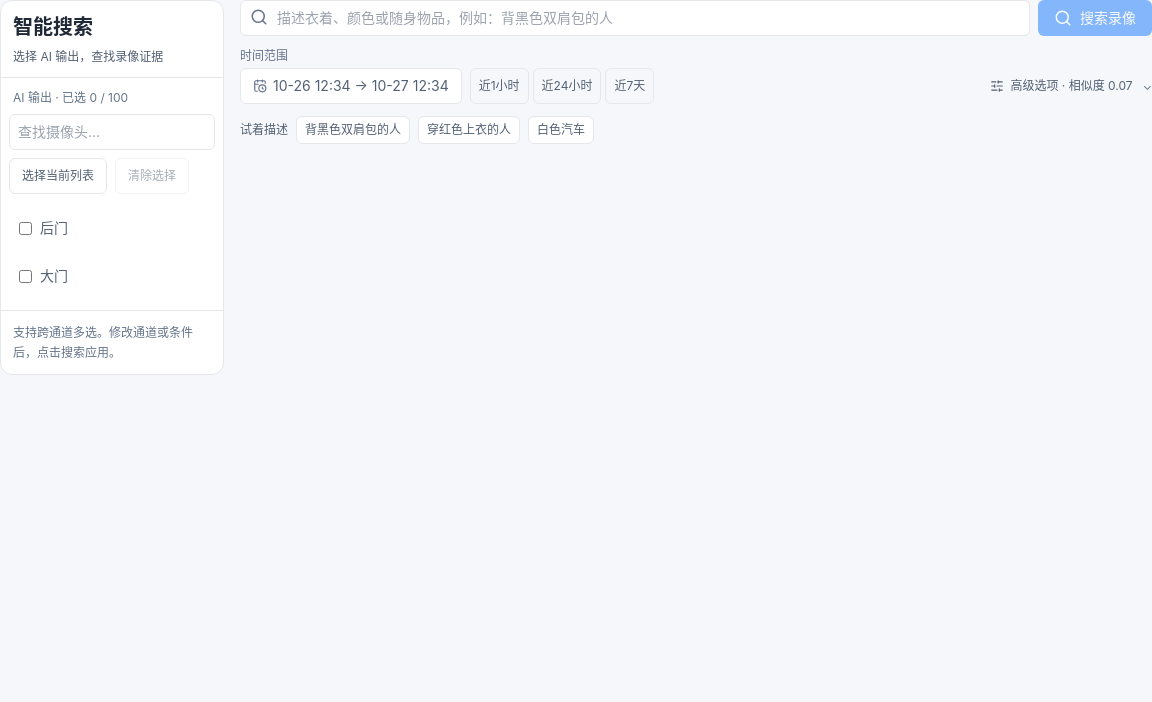
Test: 近7天 changes only the time draft until an explicit search, preserving previous evidence and coverage
Step 1. Click the checkbox labelled "后门" → (26, 228), box [19, 222, 32, 234]
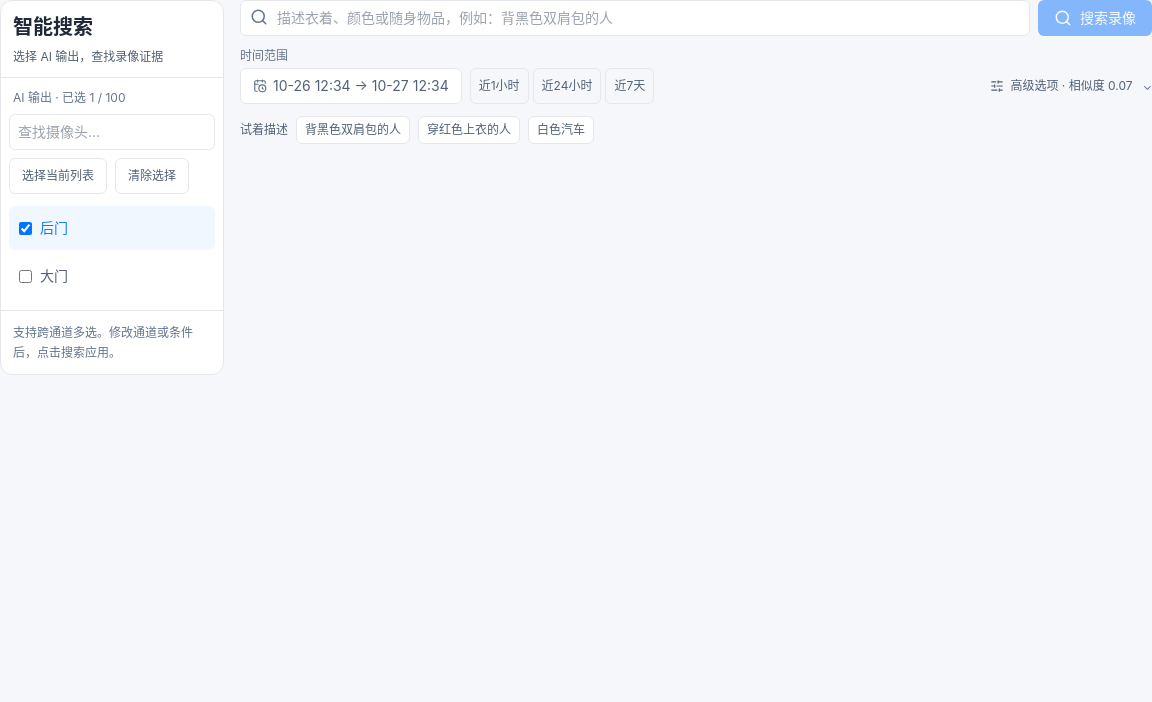
Step 2. Type "黑色背包" into the field named "想找什么？" → (635, 18), box [240, 0, 1030, 36]
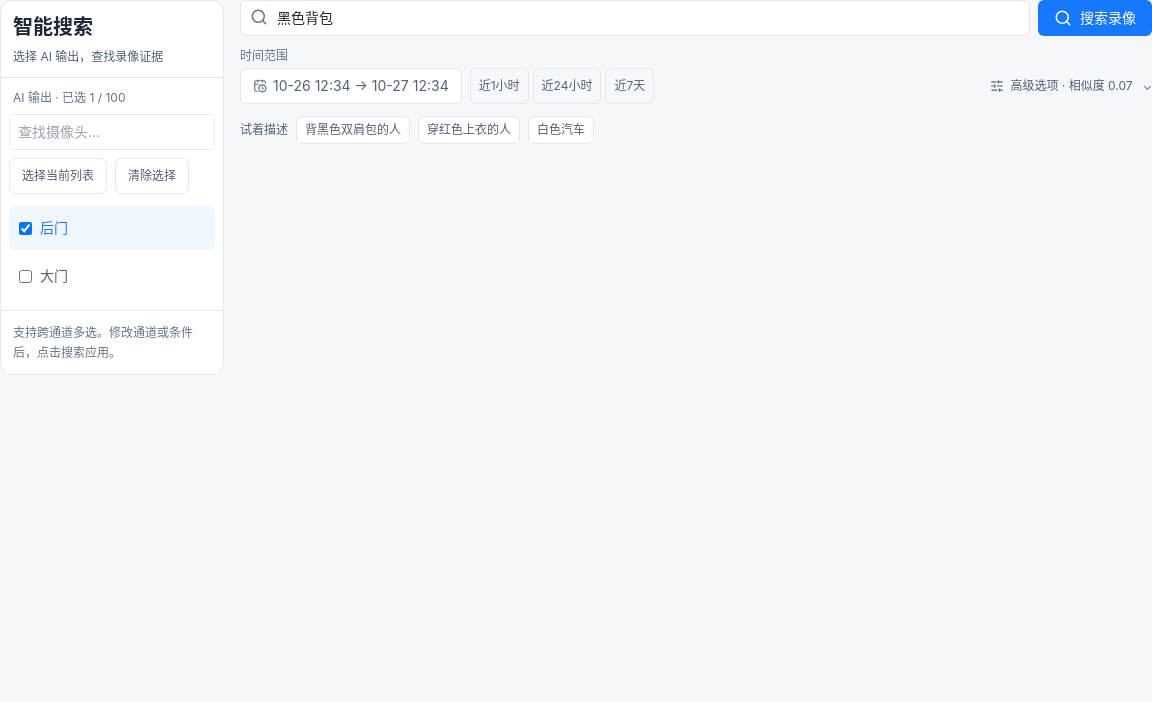
Step 3. Click the button "搜索录像" → (1095, 18), box [1038, 0, 1151, 36]
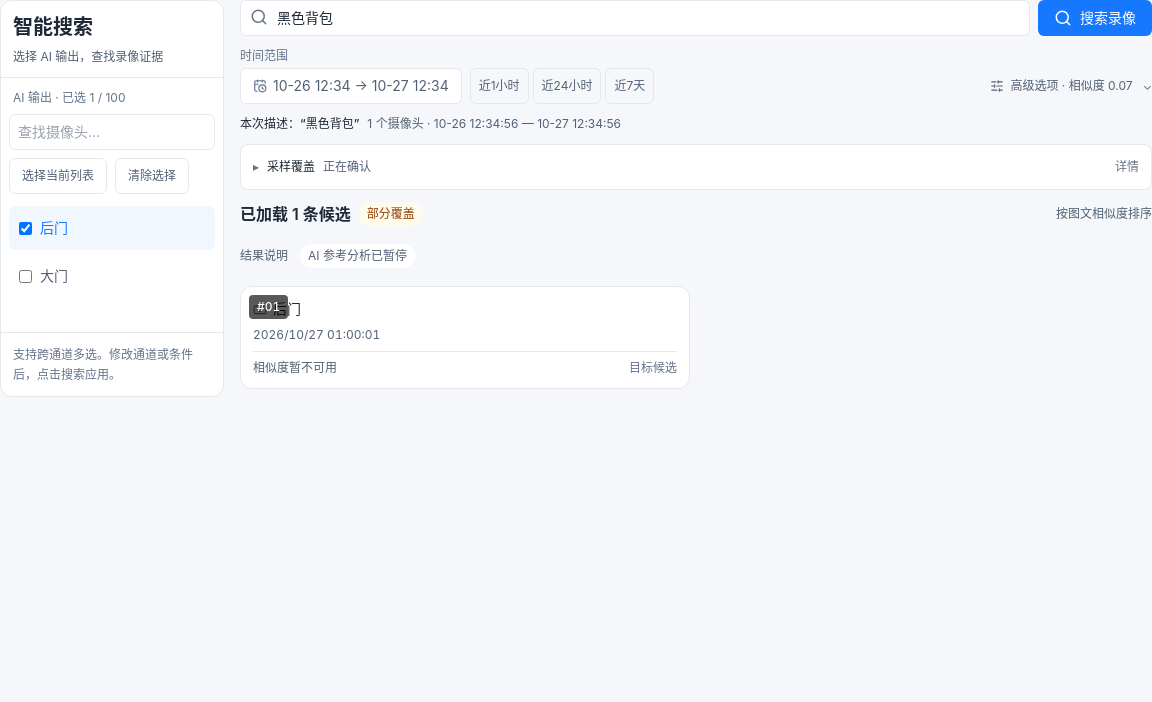
Step 4. Click the button with aria-label "查看第 1 条候选：后门" → (269, 307), box [240, 286, 690, 389]
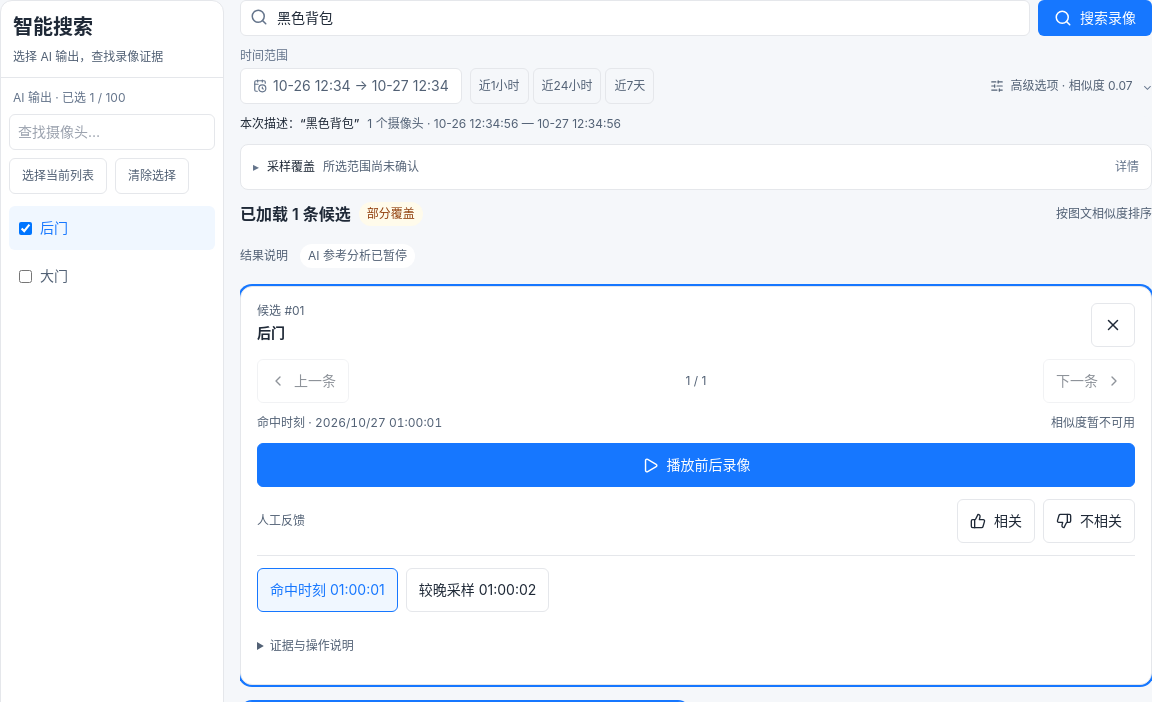
Step 5. Click the button "近7天" → (630, 86), box [606, 68, 654, 104]
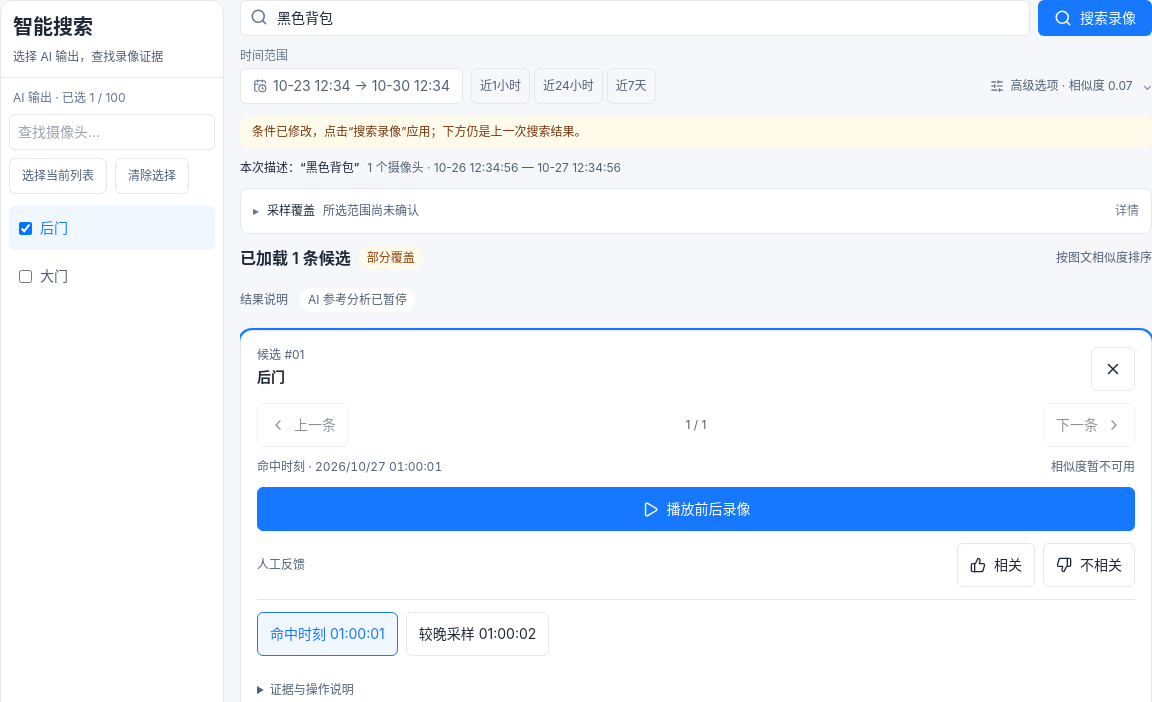
Expected: the checkbox labelled "后门" is checked, [19, 222, 32, 234]
Expected: the text "条件已修改，点击“搜索录像”应用；下方仍是上一次搜索结果。" is shown, [240, 116, 1151, 148]
Step 6. Click the button "搜索录像" → (1095, 18), box [1038, 0, 1151, 36]
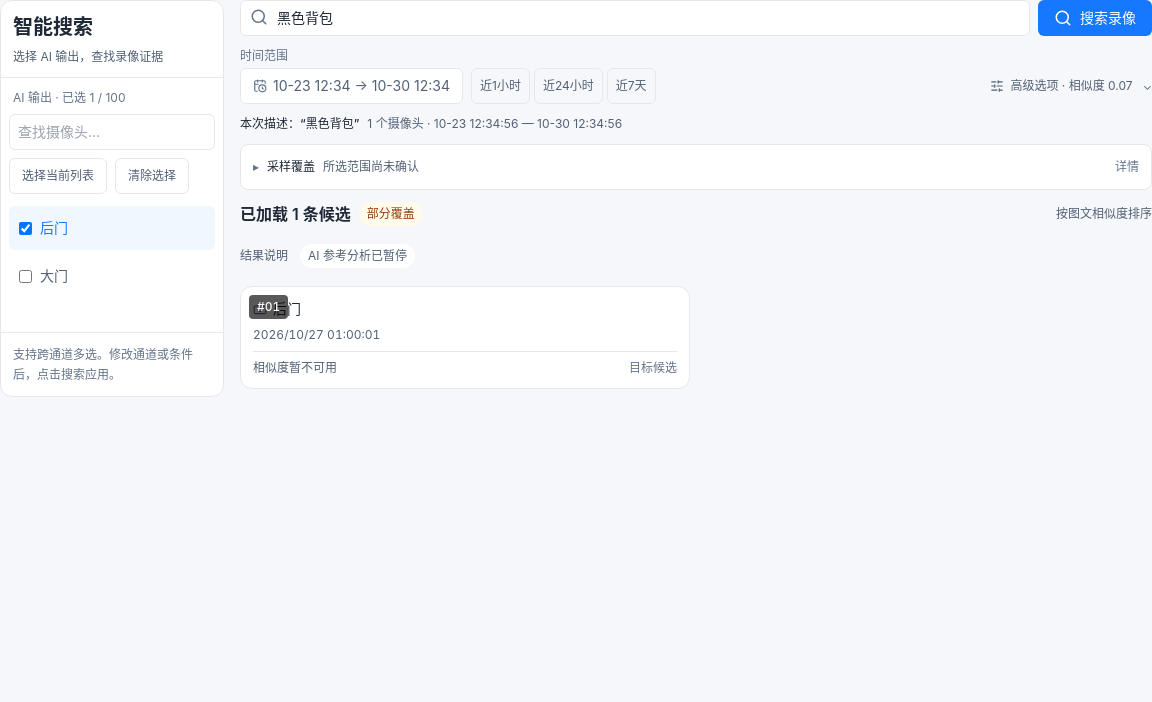
Expected: the text "条件已修改" is gone
